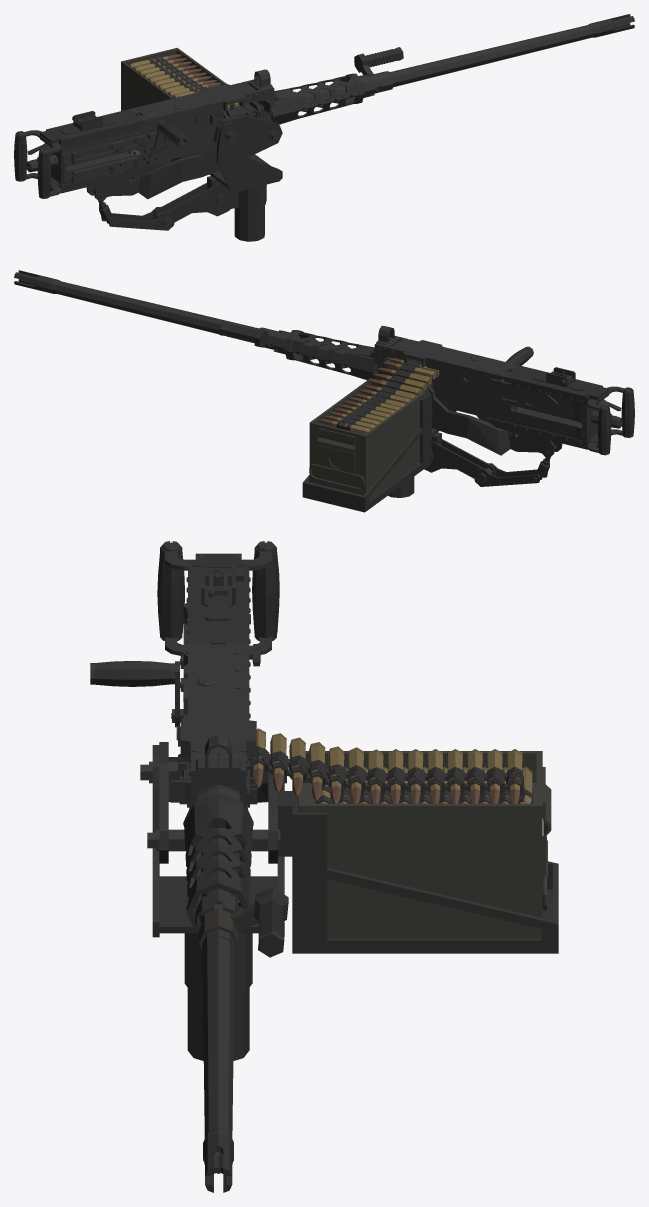
3 renders of one model, top to bottom at view 1: azimuth 30°, elevation 25°; view 2: azimuth 150°, elevation 25°; view 3: azimuth 270°, elevation 25°, orthographic. The views are drawn at different scales.
Visible parts, largest first — view 1: M2E2; view 2: M2E2; view 3: M2E2.
Boxes of the visible parts, <box> form: M2E2: <box>14,14,634,241</box>; M2E2: <box>14,270,634,512</box>; M2E2: <box>90,541,558,1192</box>.
Bounding box in the file's own units: 771 × 197 × 259.
